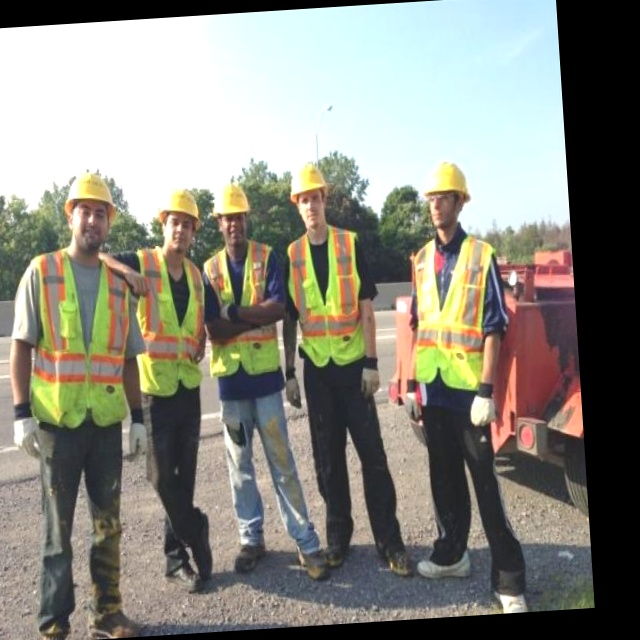Con_Casco: (64, 173, 119, 257), (424, 160, 474, 230), (156, 187, 202, 250), (289, 162, 331, 227), (214, 182, 252, 242)
Con_Chaleco: (26, 255, 141, 433), (410, 238, 503, 391), (132, 250, 214, 394), (286, 227, 372, 361), (206, 244, 282, 374)
